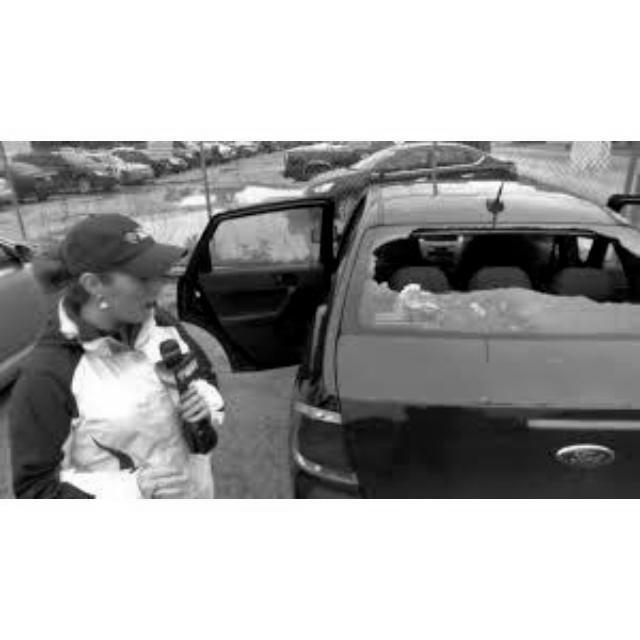Rear-windscreen-Damage: (365, 212, 638, 350)
